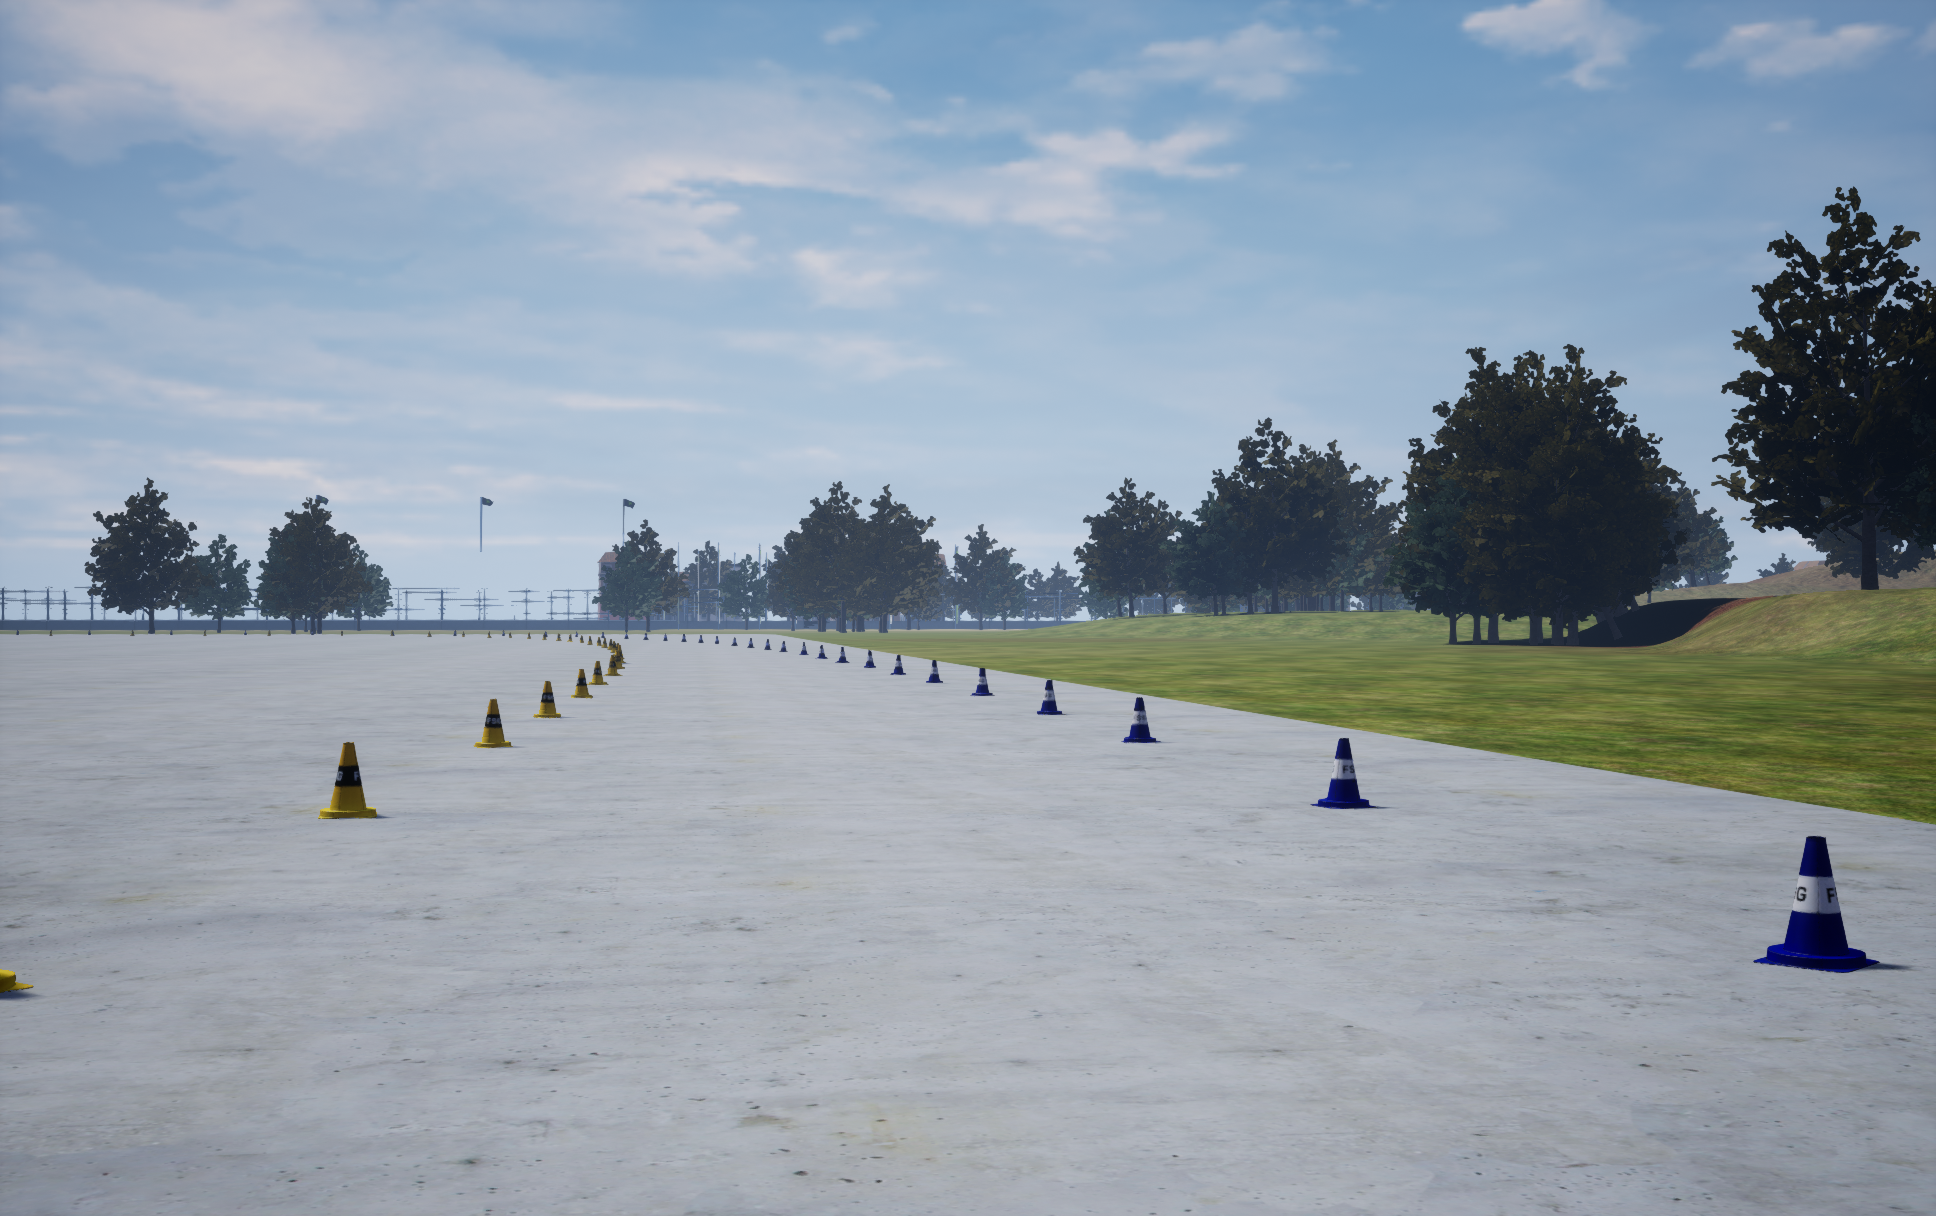blue: (318, 742, 375, 818), (473, 699, 511, 747), (532, 681, 560, 717), (0, 969, 34, 992), (572, 670, 593, 698), (587, 661, 608, 684), (602, 656, 622, 675)
yellow: (1752, 836, 1879, 972), (1310, 738, 1376, 808), (1121, 698, 1160, 742), (1037, 679, 1065, 714), (969, 668, 995, 695), (926, 660, 941, 682), (890, 656, 905, 674)
